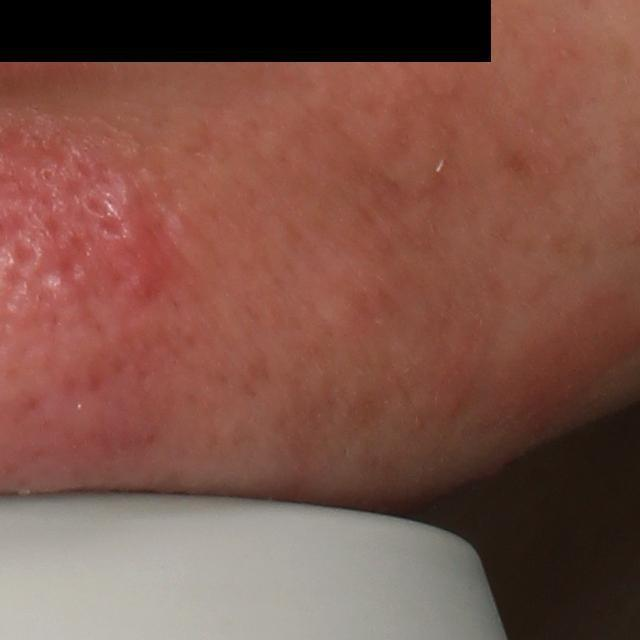papule: (102, 190, 180, 304)
